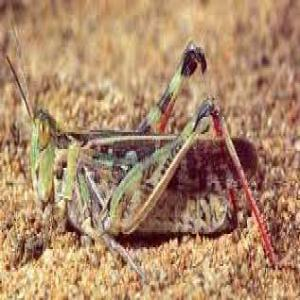locust: (20, 67, 259, 263)
